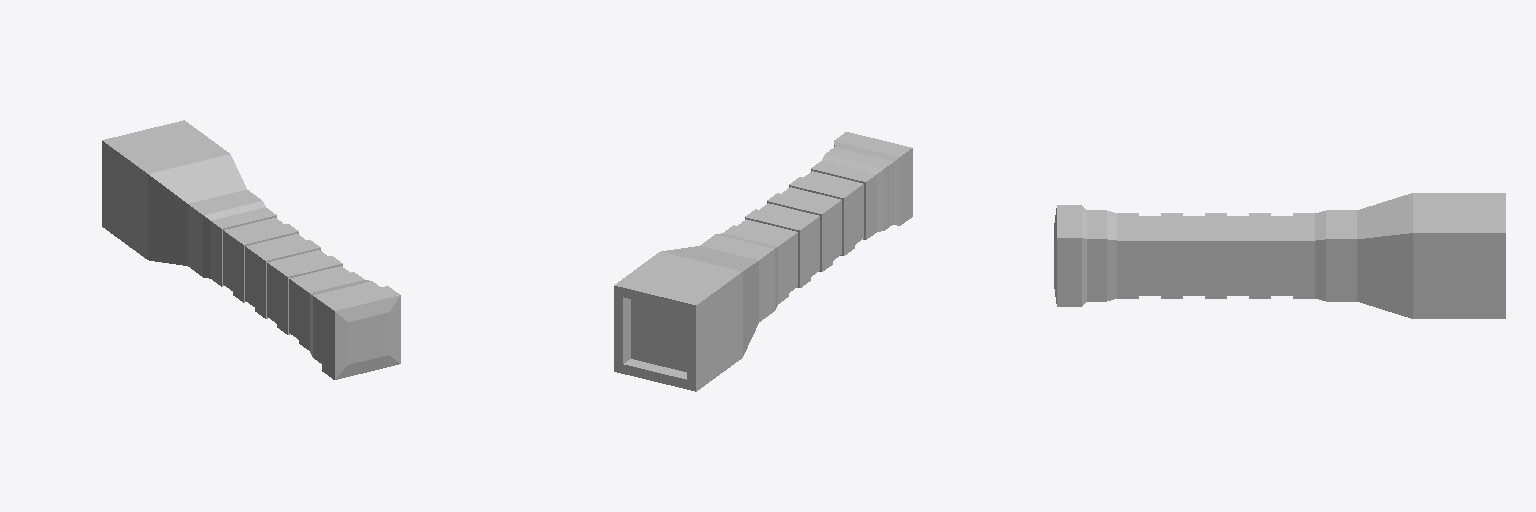
Rendered from flashlight.obj.
The picture shows the model from 3 angles: view 1: azimuth 30°, elevation 25°; view 2: azimuth 150°, elevation 25°; view 3: azimuth 270°, elevation 25°; orthographic projection.
Visible parts, largest first — view 1: flashlight_Cube.001; view 2: flashlight_Cube.001; view 3: flashlight_Cube.001.
Part boxes in pixels (bbox=[...]): flashlight_Cube.001: bbox=[102, 120, 400, 379]; flashlight_Cube.001: bbox=[614, 132, 912, 391]; flashlight_Cube.001: bbox=[1054, 193, 1505, 318].
Bounding box in the file's own units: 0.0854 × 0.0854 × 0.4047.